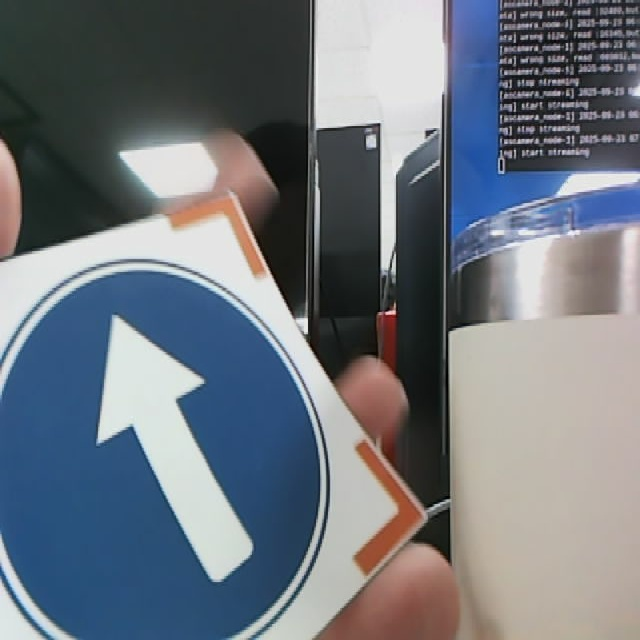strait: (4, 192, 431, 640)
